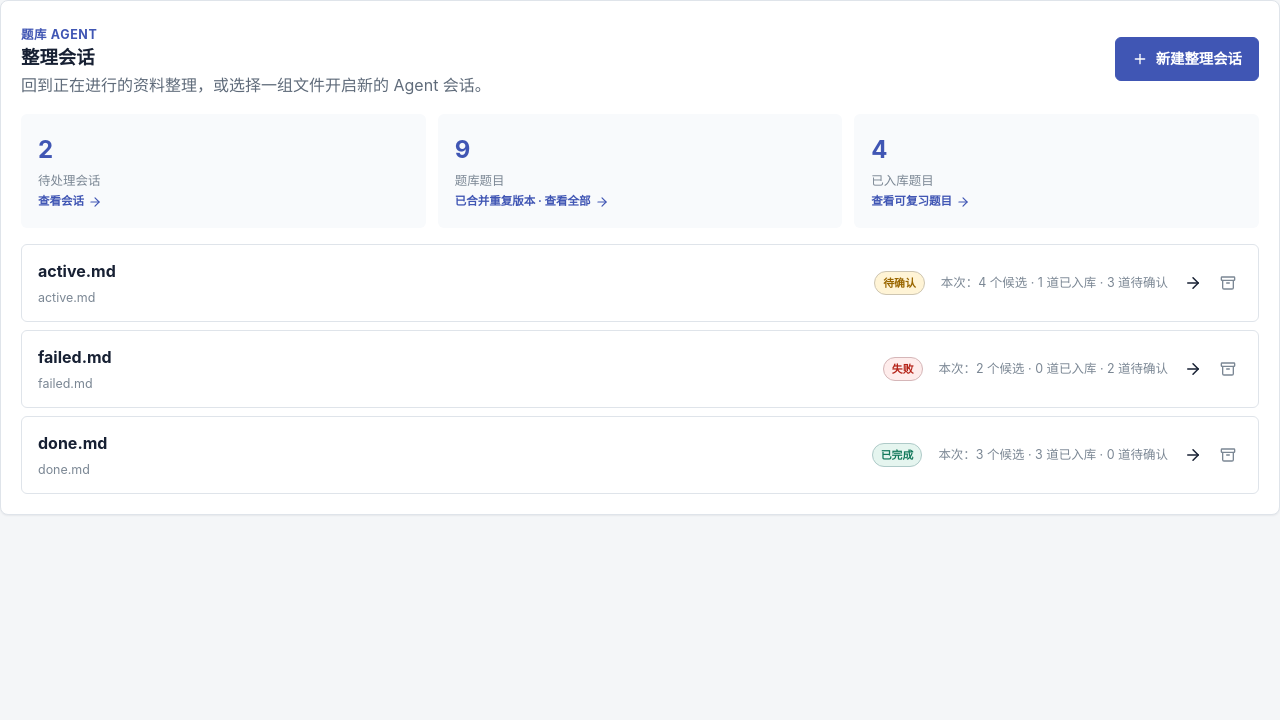
CurationSessionList › explains and filters sessions that still need attention
The width and height of the screenshot is (1280, 720).
What coordinates should you click on to do the following:
click the button "2 待处理会话 查看会话"
I would click on:
 (69, 180)
Its box is [21,114,426,228].
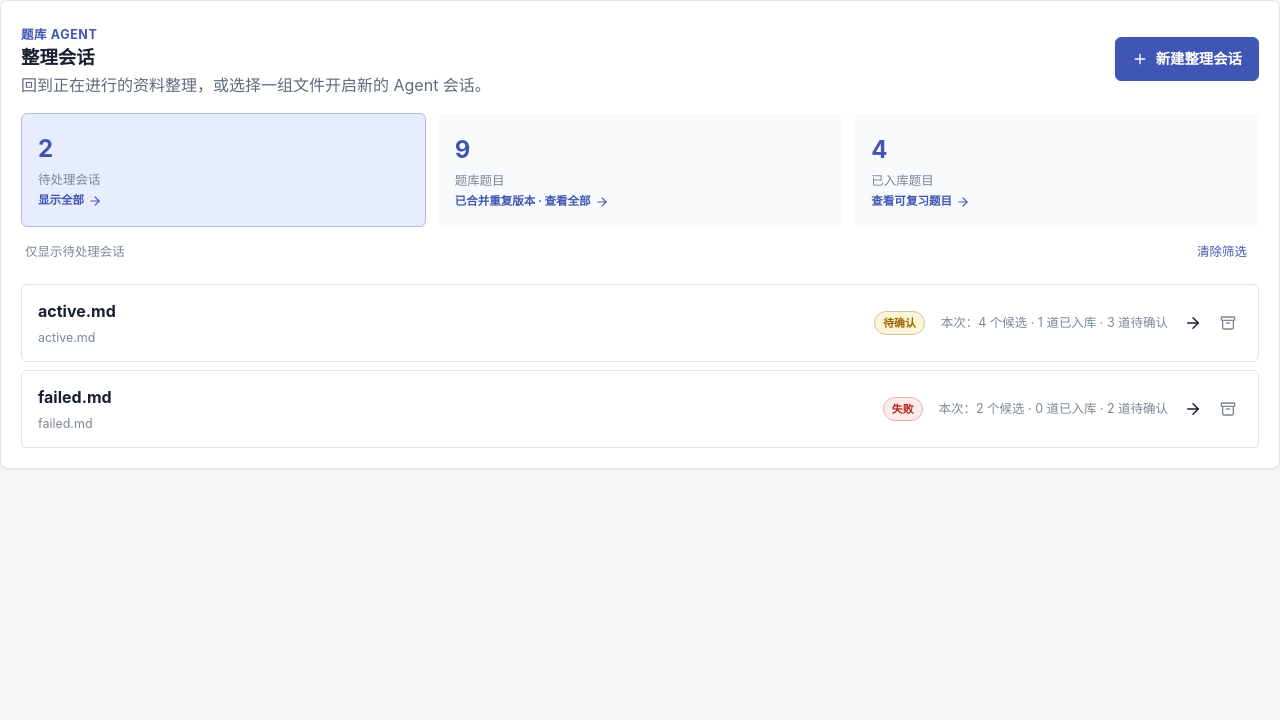
Check: the button "active.md active.md 待确认 本次：4 个候选 · 1 道已入库 · 3 道待确认" is shown, box [22,285,1258,361]
Check: the button "done.md" is gone
Check: the text "仅显示待处理会话" is shown, box [25,242,125,262]
